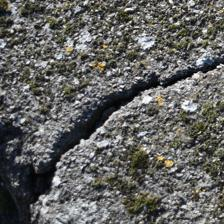Crack: (13, 29, 208, 183)
